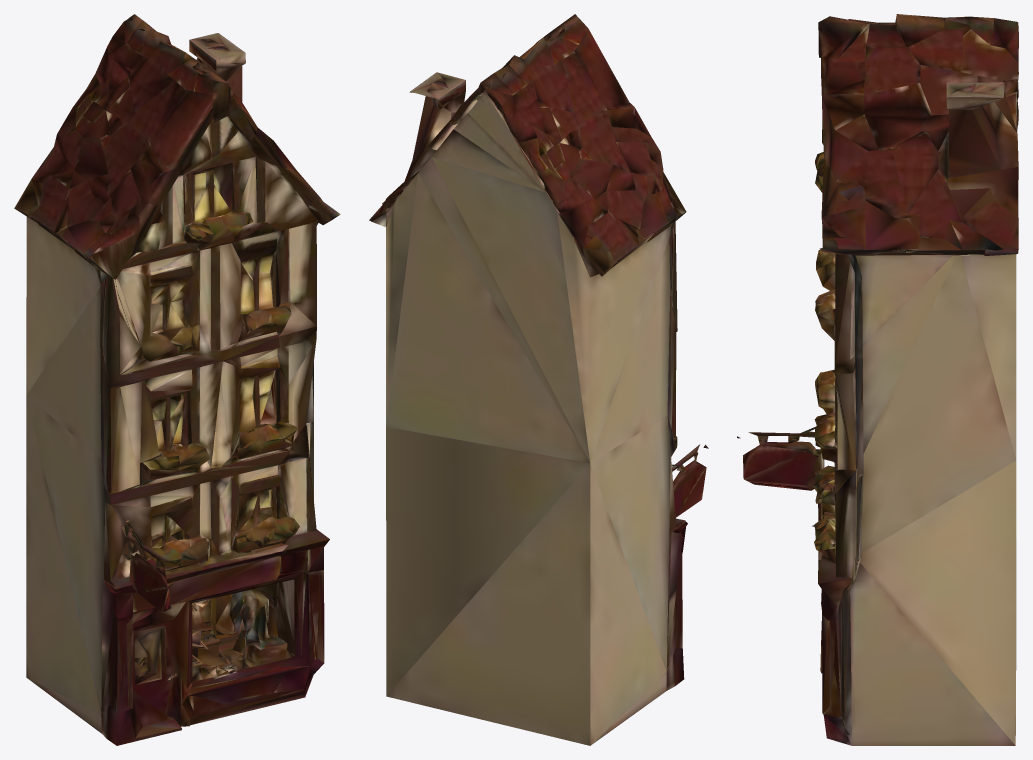
File: getkong-haus17.glb
3 renders of one model, left to right at view 1: azimuth 30°, elevation 25°; view 2: azimuth 150°, elevation 25°; view 3: azimuth 270°, elevation 25°, orthographic. The views are drawn at different scales.
Parts seen in each view (by area): view 1: output_unwrapped; view 2: output_unwrapped; view 3: output_unwrapped.
Part boxes in pixels (bbox=[...]): output_unwrapped: bbox=[14, 14, 340, 745]; output_unwrapped: bbox=[369, 14, 708, 745]; output_unwrapped: bbox=[737, 14, 1018, 745].
Bounding box in the file's own units: 0.7325 × 1.9 × 0.7152.
Materials: 1 (1 with a texture image).
